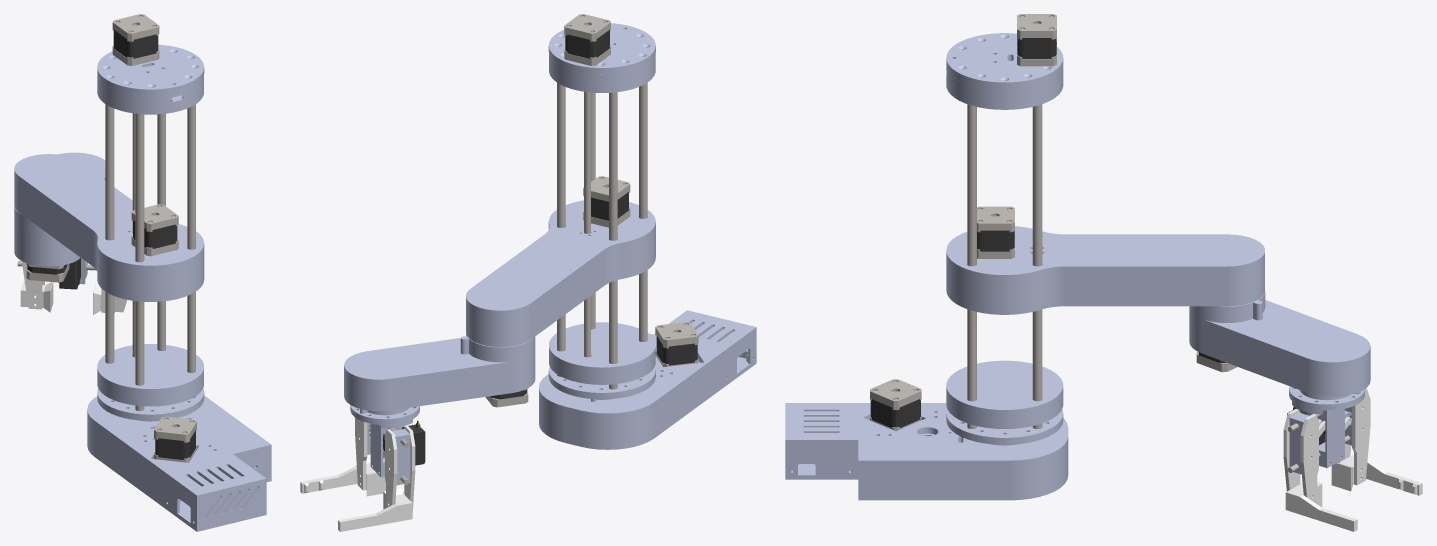
3 renders of one model, left to right at view 1: azimuth 30°, elevation 25°; view 2: azimuth 150°, elevation 25°; view 3: azimuth 270°, elevation 25°, orthographic. The views are drawn at different scales.
Parts seen in each view (by area): view 1: Cut-Extrude13, Boss-Extrude1 (×5), CSK for M4 Countersunk Flat Head Screw1 (×2), Fillet3, Stepper NEMA 17 - 20mm shaft.step (×3), Cut-Extrude1 (×2), Revolve1, LPattern1, Cut-Extrude8, Chamfer1 (×2), Cut-Extrude4, Boss-Extrude8 (+4 smaller); view 2: Cut-Extrude13, Chamfer1 (×2), Boss-Extrude1 (×5), Cut-Extrude1 (×3), Revolve1, Stepper NEMA 17 - 20mm shaft.step (×3), Cut-Extrude8, Fillet3, CSK for M4 Countersunk Flat Head Screw1 (×2), Cut-Extrude4 (×2), LPattern1, Boss-Extrude8 (+5 smaller); view 3: Cut-Extrude13, Chamfer1 (×2), Cut-Extrude1 (×3), Fillet3, Cut-Extrude8, Revolve1, Stepper NEMA 17 - 20mm shaft.step (×3), CSK for M4 Countersunk Flat Head Screw1 (×2), Boss-Extrude1 (×2), LPattern1, Cut-Extrude4 (×2), Boss-Extrude8 (+4 smaller).
Boxes of the visible parts, bbox=[...] form: Cut-Extrude13: bbox=[87, 395, 271, 507]; Boss-Extrude1 (×5): bbox=[105, 104, 195, 410]; CSK for M4 Countersunk Flat Head Screw1 (×2): bbox=[97, 44, 266, 531]; Fillet3: bbox=[93, 221, 204, 301]; Stepper NEMA 17 - 20mm shaft.step (×3): bbox=[112, 14, 196, 462]; Cut-Extrude1 (×2): bbox=[21, 261, 203, 406]; Revolve1: bbox=[14, 154, 132, 232]; LPattern1: bbox=[165, 456, 264, 526]; Cut-Extrude8: bbox=[14, 173, 92, 266]; Chamfer1 (×2): bbox=[14, 152, 105, 312]; Cut-Extrude4: bbox=[97, 75, 203, 114]; Boss-Extrude8: bbox=[97, 388, 204, 421]; Cut-Extrude13: bbox=[539, 333, 723, 449]; Chamfer1 (×2): bbox=[338, 338, 535, 531]; Boss-Extrude1 (×5): bbox=[557, 82, 647, 389]; Cut-Extrude1 (×3): bbox=[355, 322, 655, 507]; Revolve1: bbox=[466, 234, 604, 312]; Stepper NEMA 17 - 20mm shaft.step (×3): bbox=[564, 14, 698, 366]; Cut-Extrude8: bbox=[466, 252, 604, 346]; Fillet3: bbox=[545, 200, 655, 285]; CSK for M4 Countersunk Flat Head Screw1 (×2): bbox=[548, 23, 756, 387]; Cut-Extrude4 (×2): bbox=[370, 54, 655, 477]; LPattern1: bbox=[669, 311, 754, 381]; Boss-Extrude8: bbox=[548, 366, 655, 401]; Cut-Extrude13: bbox=[858, 403, 1068, 500]; Chamfer1 (×2): bbox=[1189, 300, 1422, 495]; Cut-Extrude1 (×3): bbox=[946, 360, 1370, 503]; Fillet3: bbox=[946, 226, 1065, 314]; Cut-Extrude8: bbox=[1065, 255, 1264, 306]; Revolve1: bbox=[1065, 234, 1264, 269]; Stepper NEMA 17 - 20mm shaft.step (×3): bbox=[870, 14, 1056, 430]; CSK for M4 Countersunk Flat Head Screw1 (×2): bbox=[785, 33, 1063, 479]; Boss-Extrude1 (×2): bbox=[967, 104, 1042, 428]; LPattern1: bbox=[789, 403, 853, 475]; Cut-Extrude4 (×2): bbox=[946, 66, 1344, 467]; Boss-Extrude8: bbox=[946, 409, 1063, 445].
Bounding box in the file's own units: 0.2544 × 0.508 × 0.6534.
